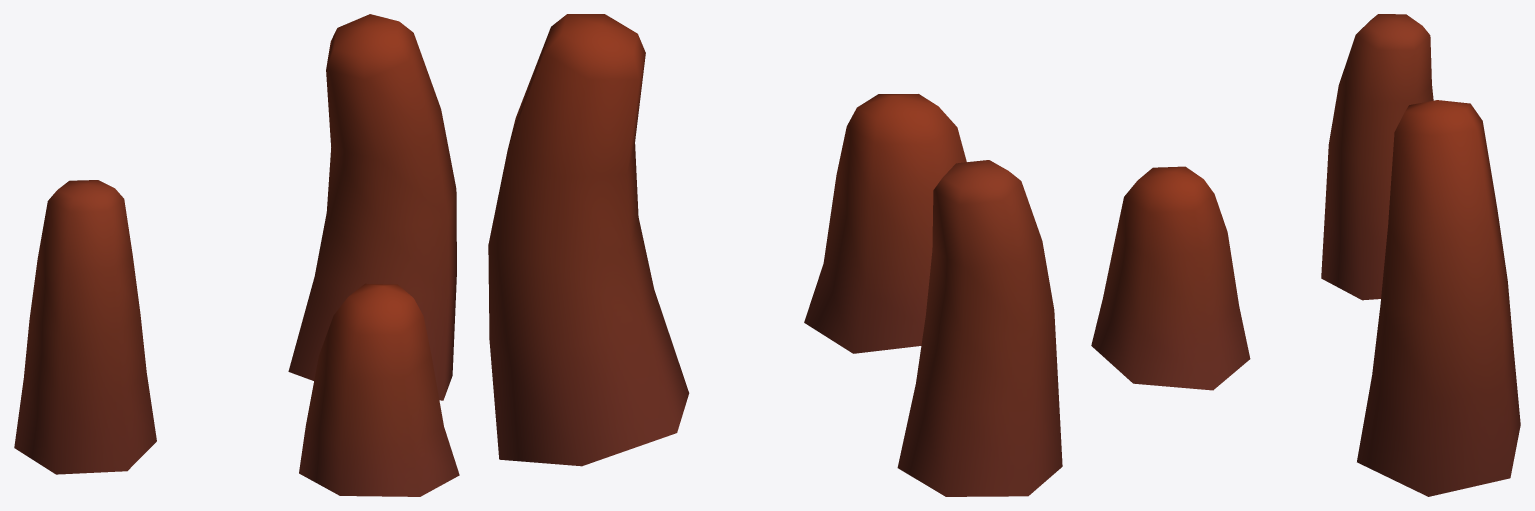
File: inferno-grass-001.glb
3 renders of one model, left to right at view 1: azimuth 30°, elevation 25°; view 2: azimuth 150°, elevation 25°; view 3: azimuth 270°, elevation 25°, orthographic. The views are drawn at different scales.
Parts seen in each view (by area): view 1: Grass_001; view 2: Grass_001; view 3: Grass_001.
Boxes of the visible parts, bbox=[...] form: Grass_001: bbox=[14, 14, 459, 496]; Grass_001: bbox=[488, 14, 1062, 496]; Grass_001: bbox=[1091, 14, 1520, 496].
Bounding box in the file's own units: 0.9413 × 0.7286 × 0.7918.
Materials: 1 (1 with a texture image).
